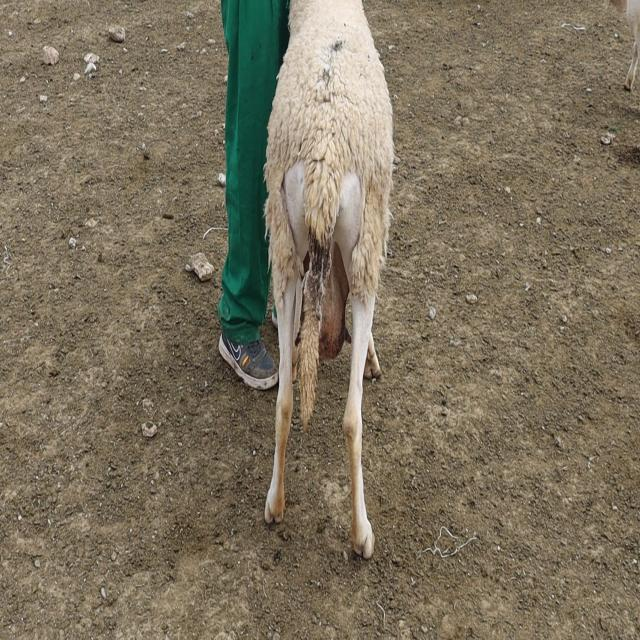Score_2: (264, 0, 394, 558)
